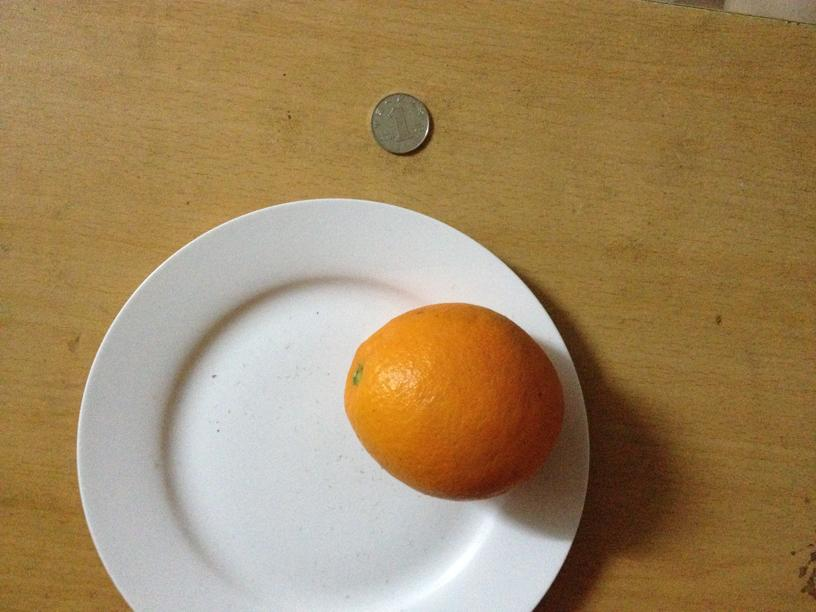coin: (369, 89, 431, 156)
orange: (344, 303, 566, 501)
